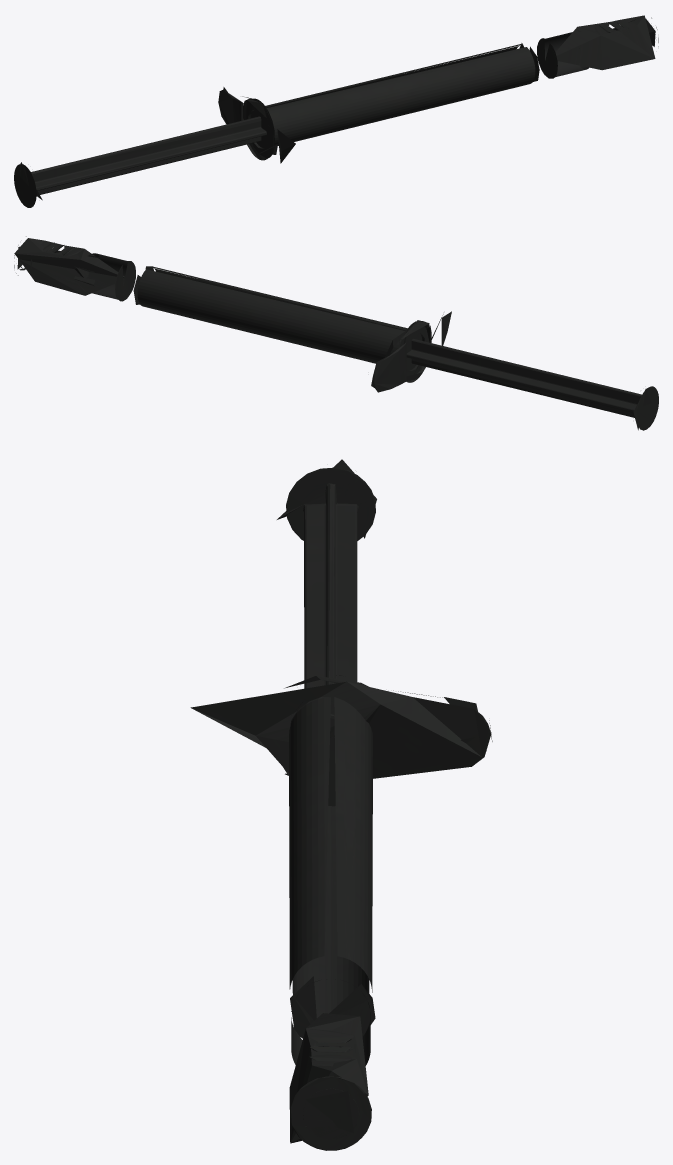
File: syringe_insulin_b01.glb
3 renders of one model, top to bottom at view 1: azimuth 30°, elevation 25°; view 2: azimuth 150°, elevation 25°; view 3: azimuth 270°, elevation 25°, orthographic. The views are drawn at different scales.
Parts seen in each view (by area): view 1: geometry_0; view 2: geometry_0; view 3: geometry_0.
Part boxes in pixels (<box>): geometry_0: <box>14,15,658,207</box>; geometry_0: <box>14,236,658,430</box>; geometry_0: <box>190,459,492,1150</box>.
Size of the model in its own units: 0.42 by 0.0371 by 0.0905.
1 material, 1 textured.
